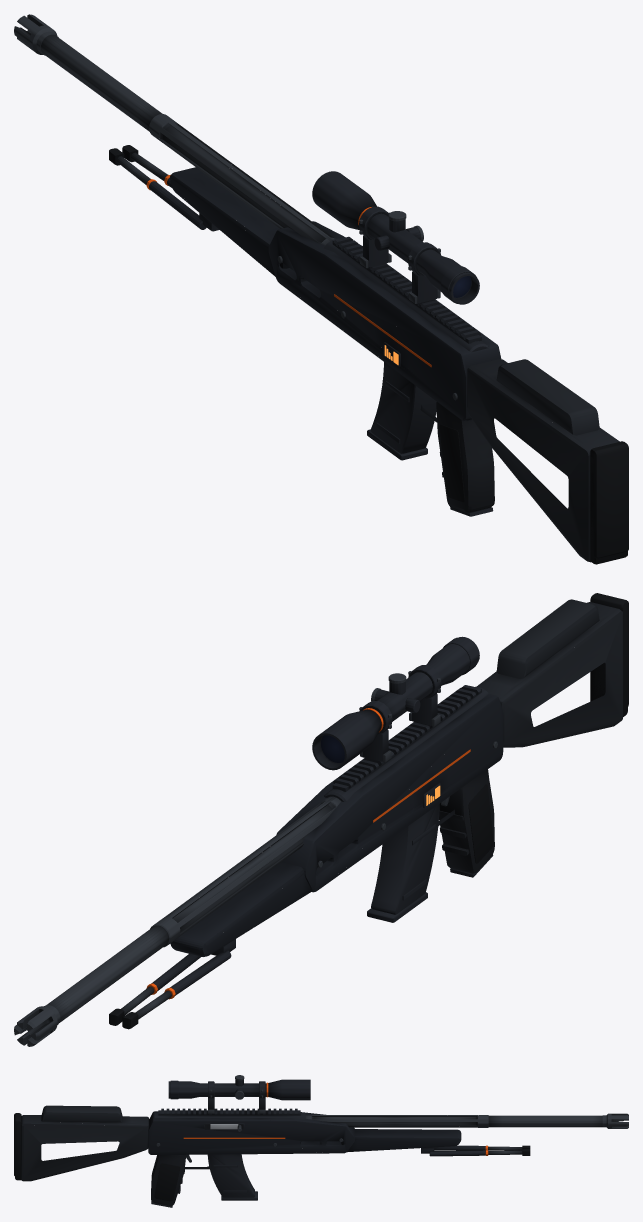
The model's file is dragunov-svd.glb.
3 views of the same model, one above another, from view 1: azimuth 30°, elevation 25°; view 2: azimuth 150°, elevation 25°; view 3: azimuth 270°, elevation 25° (orthographic). The views are drawn at different scales.
Visible parts, largest first — view 1: body_frame, body_furn, body_frame2, body_steel, body_rubber, mag_frame2, body_polymer; view 2: body_frame, body_furn, body_frame2, body_steel, mag_frame2, body_rubber, body_polymer; view 3: body_frame, body_furn, body_frame2, body_steel, mag_frame2, body_rubber, body_polymer, body_accent.
Part boxes in pixels (x1,y1,x2,y2): body_frame: (170,167,501,421); body_furn: (467,359,619,562); body_frame2: (149,171,493,516); body_steel: (14,14,457,400); body_rubber: (109,145,628,564); mag_frame2: (367,362,436,460); body_polymer: (436,402,494,512); body_frame: (170,688,503,956); body_furn: (476,599,622,747); body_frame2: (151,636,493,995); body_steel: (14,671,497,1046); mag_frame2: (367,804,439,922); body_rubber: (109,593,628,1029); body_polymer: (439,769,494,873); body_frame: (148,1111,461,1154); body_furn: (21,1105,149,1181); body_frame2: (151,1079,485,1207); body_steel: (156,1075,628,1162); mag_frame2: (207,1154,257,1200); body_rubber: (14,1113,530,1201); body_polymer: (151,1155,185,1205); body_accent: (183,1082,488,1155).
Bounding box in the file's own units: 0.067 × 0.2784 × 1.21.
